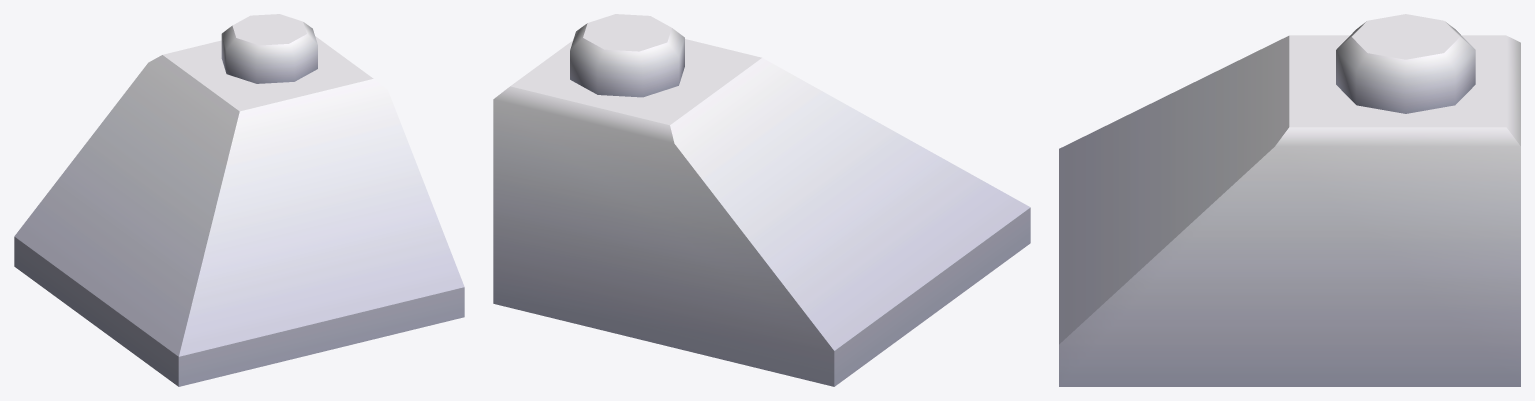
Rendered from kenney-brick-round-hq-brick-slope-corner-outside-2-x-2.glb.
3 renders of one model, left to right at view 1: azimuth 30°, elevation 25°; view 2: azimuth 150°, elevation 25°; view 3: azimuth 270°, elevation 25°, orthographic. The views are drawn at different scales.
Parts seen in each view (by area): view 1: round-hq-brick-slope-corner-outside-2x2; view 2: round-hq-brick-slope-corner-outside-2x2; view 3: round-hq-brick-slope-corner-outside-2x2.
Boxes of the visible parts, x1,y1,x2,y2 form: round-hq-brick-slope-corner-outside-2x2: [14, 14, 464, 386]; round-hq-brick-slope-corner-outside-2x2: [493, 14, 1030, 386]; round-hq-brick-slope-corner-outside-2x2: [1059, 14, 1520, 386].
Bounding box in the file's own units: 0.159 × 0.114 × 0.1585.
Materials: 1 (1 with a texture image).
